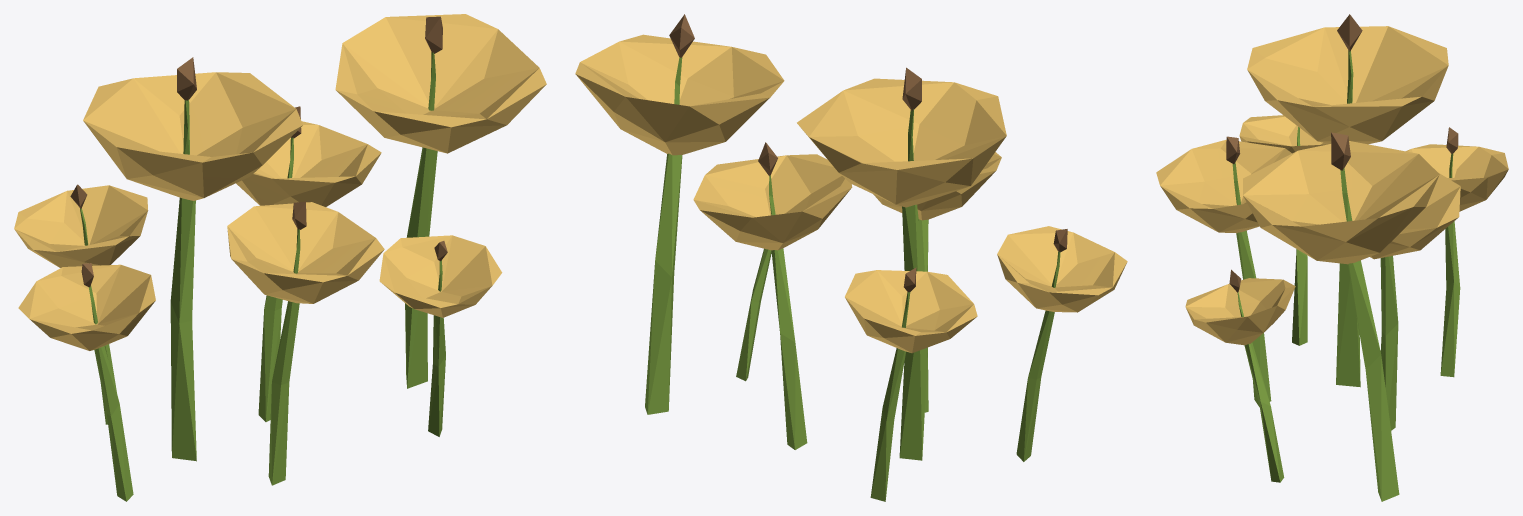
File: Flower_04.fbx
The picture shows the model from 3 angles, left to right: view 1: azimuth 30°, elevation 25°; view 2: azimuth 150°, elevation 25°; view 3: azimuth 270°, elevation 25°; orthographic projection. The views are drawn at different scales.
Visible parts, largest first — view 1: Flower_04; view 2: Flower_04; view 3: Flower_04.
Part boxes in pixels (left/top/right/bottom): Flower_04: left=14, top=14, right=546, bottom=501; Flower_04: left=575, top=14, right=1127, bottom=501; Flower_04: left=1156, top=14, right=1508, bottom=501.
Bounding box in the file's own units: 26.02 × 19.52 × 16.67.
